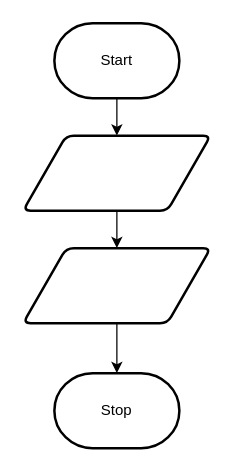
The diagram is 233 pixels wide and 470 high, and some of its shapes have lost their labels. Here are the shapes that lost their labels. From the top down, the centre of each, then its label:
the point at 116,172: Get Cat Image URL
the point at 116,285: Output Image
